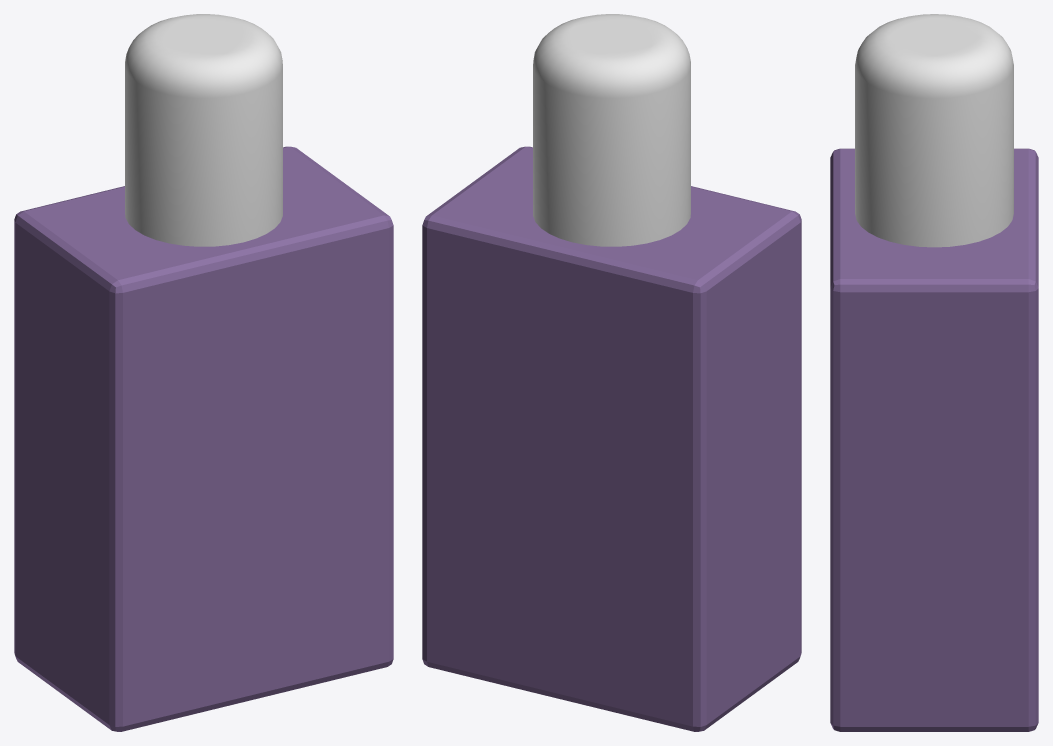
The model's file is PerfumeBottle.glb.
3 views of the same model, side by side, from view 1: azimuth 30°, elevation 25°; view 2: azimuth 150°, elevation 25°; view 3: azimuth 270°, elevation 25° (orthographic).
Visible parts, largest first — view 1: Perfume Bottle; view 2: Perfume Bottle; view 3: Perfume Bottle.
Part boxes in pixels (box(x1,y1,x2,y2)): Perfume Bottle: box(14, 14, 393, 731); Perfume Bottle: box(422, 14, 801, 731); Perfume Bottle: box(830, 14, 1038, 731).
Size of the model in its own units: 0.0631 by 0.1336 by 0.0401.
